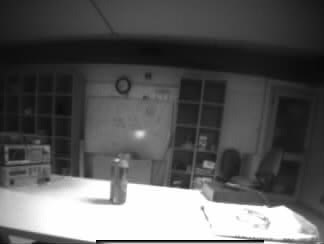Tin can: (110, 161, 127, 204)
